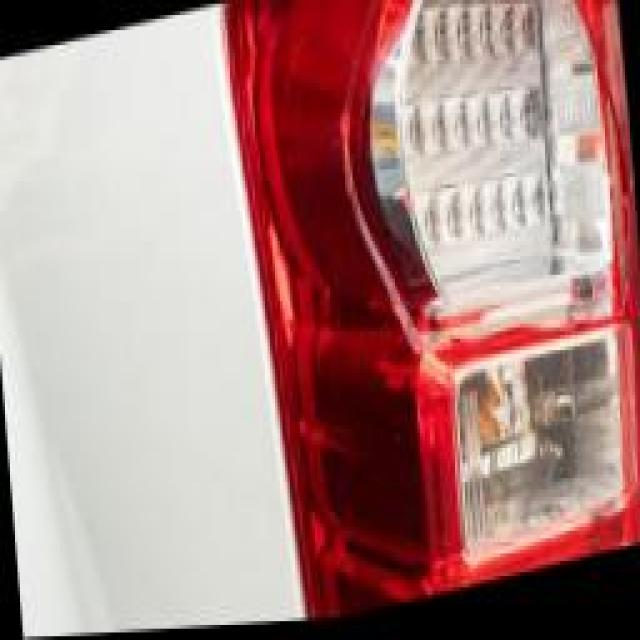Light: (248, 0, 640, 627)
